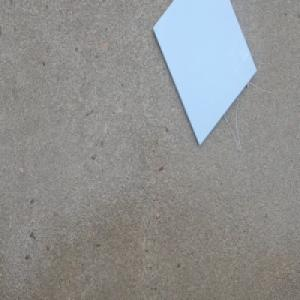PaintChip: (151, 0, 257, 148)
